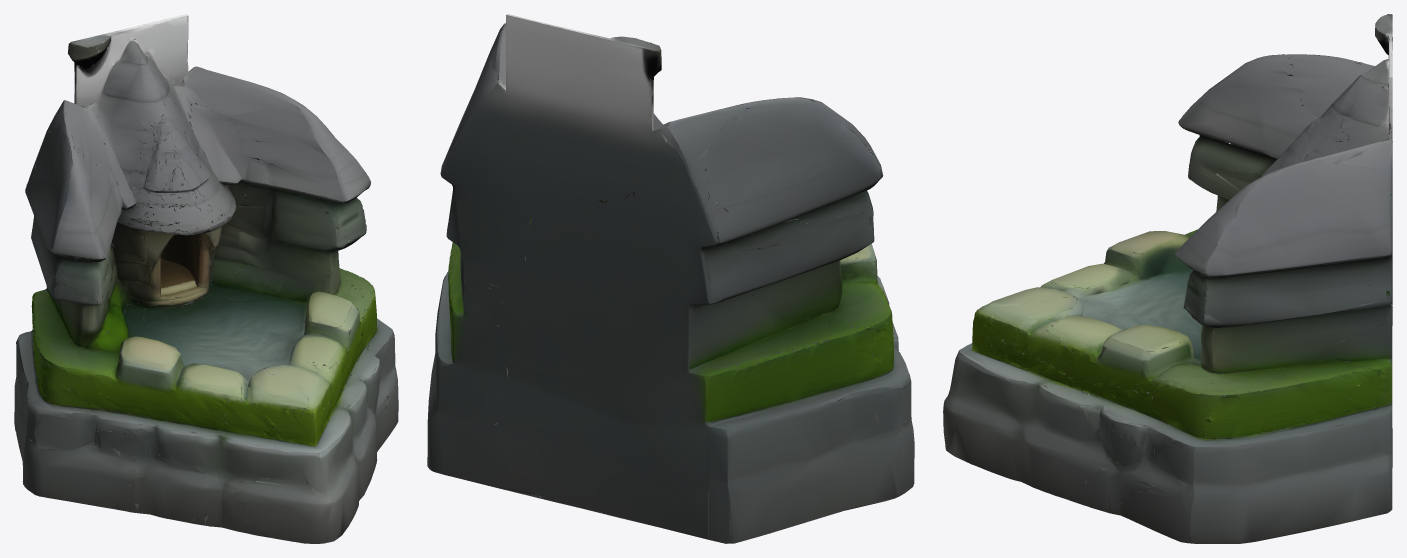
File: hunyuan-well.glb
3 renders of one model, left to right at view 1: azimuth 30°, elevation 25°; view 2: azimuth 150°, elevation 25°; view 3: azimuth 270°, elevation 25°, orthographic. The views are drawn at different scales.
Visible parts, largest first — view 1: node_0; view 2: node_0; view 3: node_0.
Boxes of the visible parts, bbox=[...] form: node_0: bbox=[14, 14, 398, 543]; node_0: bbox=[427, 14, 914, 543]; node_0: bbox=[943, 14, 1392, 543].
Bounding box in the file's own units: 0.7773 × 0.7717 × 0.7779.
Materials: 1 (1 with a texture image).
